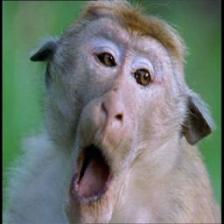monkey: (28, 2, 214, 224)
